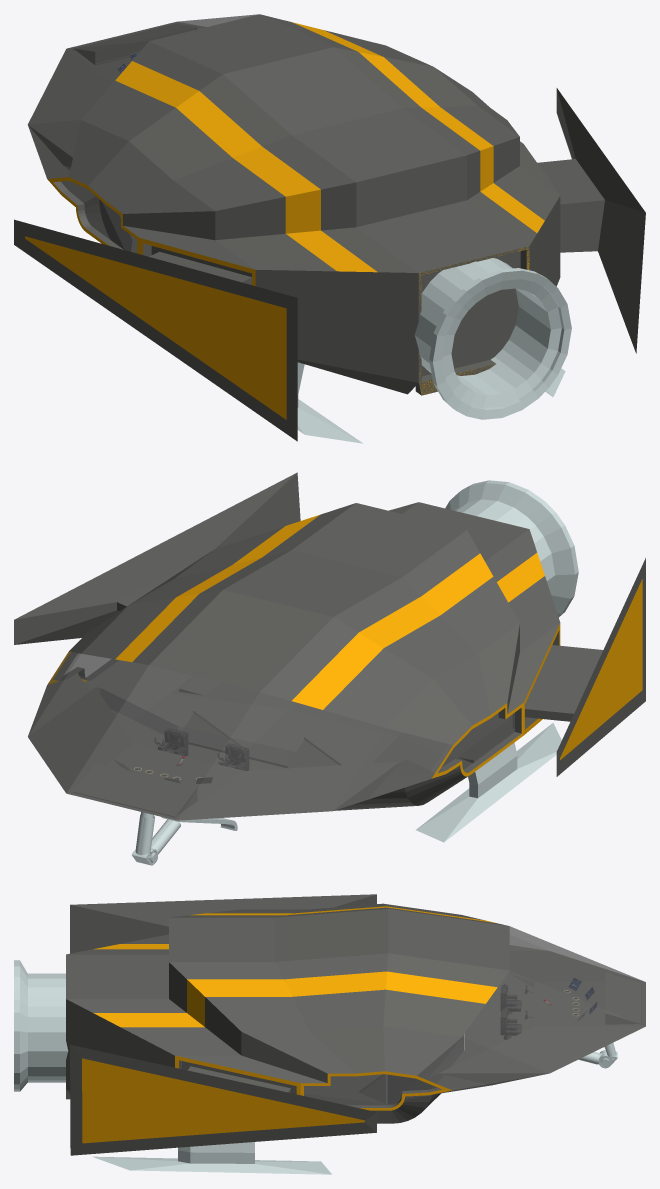
Rendered from MainShipClosed.fbx.
The picture shows the model from 3 angles, top to bottom: view 1: azimuth 30°, elevation 25°; view 2: azimuth 150°, elevation 25°; view 3: azimuth 270°, elevation 25°; orthographic projection. The views are drawn at different scales.
Parts seen in each view (by area): view 1: MainShip; view 2: MainShip, ship console, door, chair1, chair2; view 3: MainShip, ship console, door, chair1, chair2.
Part boxes in pixels (bbox=[...]): MainShip: bbox=[14, 14, 645, 443]; MainShip: bbox=[14, 472, 645, 865]; ship console: bbox=[106, 744, 244, 795]; door: bbox=[185, 711, 341, 767]; chair1: bbox=[158, 728, 188, 756]; chair2: bbox=[218, 743, 249, 770]; MainShip: bbox=[14, 894, 645, 1174]; ship console: bbox=[534, 982, 589, 1026]; door: bbox=[359, 1035, 463, 1104]; chair1: bbox=[500, 1008, 521, 1039]; chair2: bbox=[500, 984, 521, 1014].
Bounding box in the file's own units: 980 × 402 × 1202.
